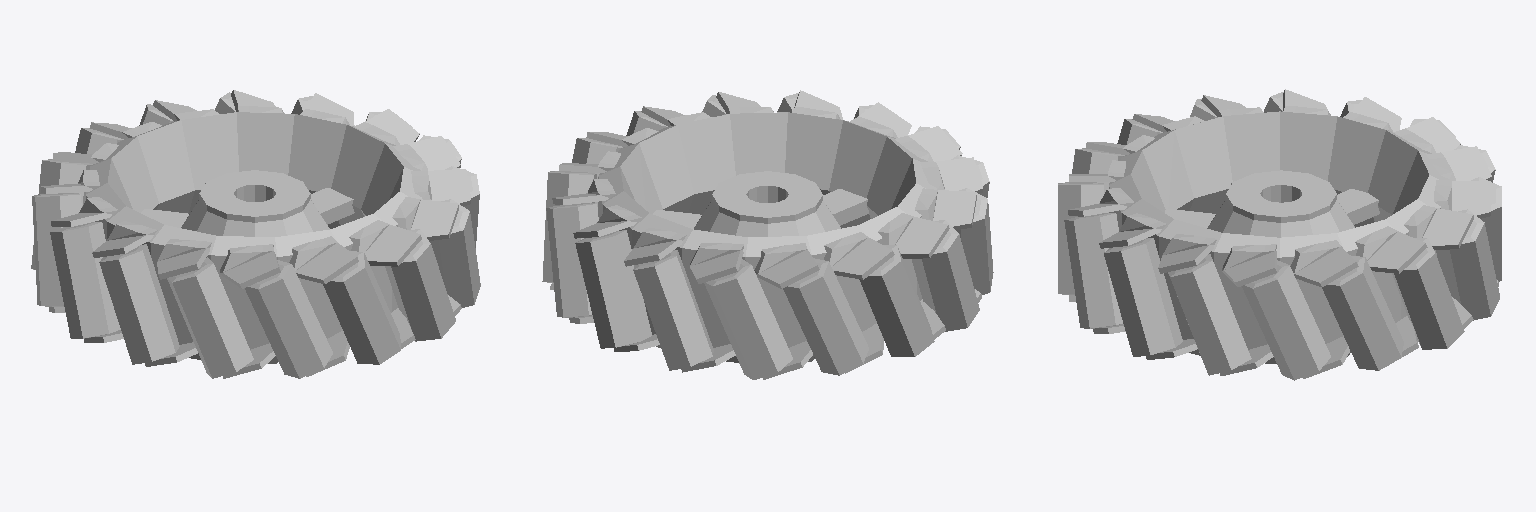
File: RM2018_Standard_WheelB.obj
The picture shows the model from 3 angles: view 1: azimuth 30°, elevation 25°; view 2: azimuth 150°, elevation 25°; view 3: azimuth 270°, elevation 25°; orthographic projection.
Parts seen in each view (by area): view 1: RM2018_Standard_WheelB3:pCylinder20; view 2: RM2018_Standard_WheelB3:pCylinder20; view 3: RM2018_Standard_WheelB3:pCylinder20.
Part boxes in pixels (bbox=[...]): RM2018_Standard_WheelB3:pCylinder20: bbox=[31, 90, 480, 378]; RM2018_Standard_WheelB3:pCylinder20: bbox=[542, 90, 993, 379]; RM2018_Standard_WheelB3:pCylinder20: bbox=[1058, 89, 1501, 380].
Size of the model in its own units: 1.76 by 0.7089 by 1.76.